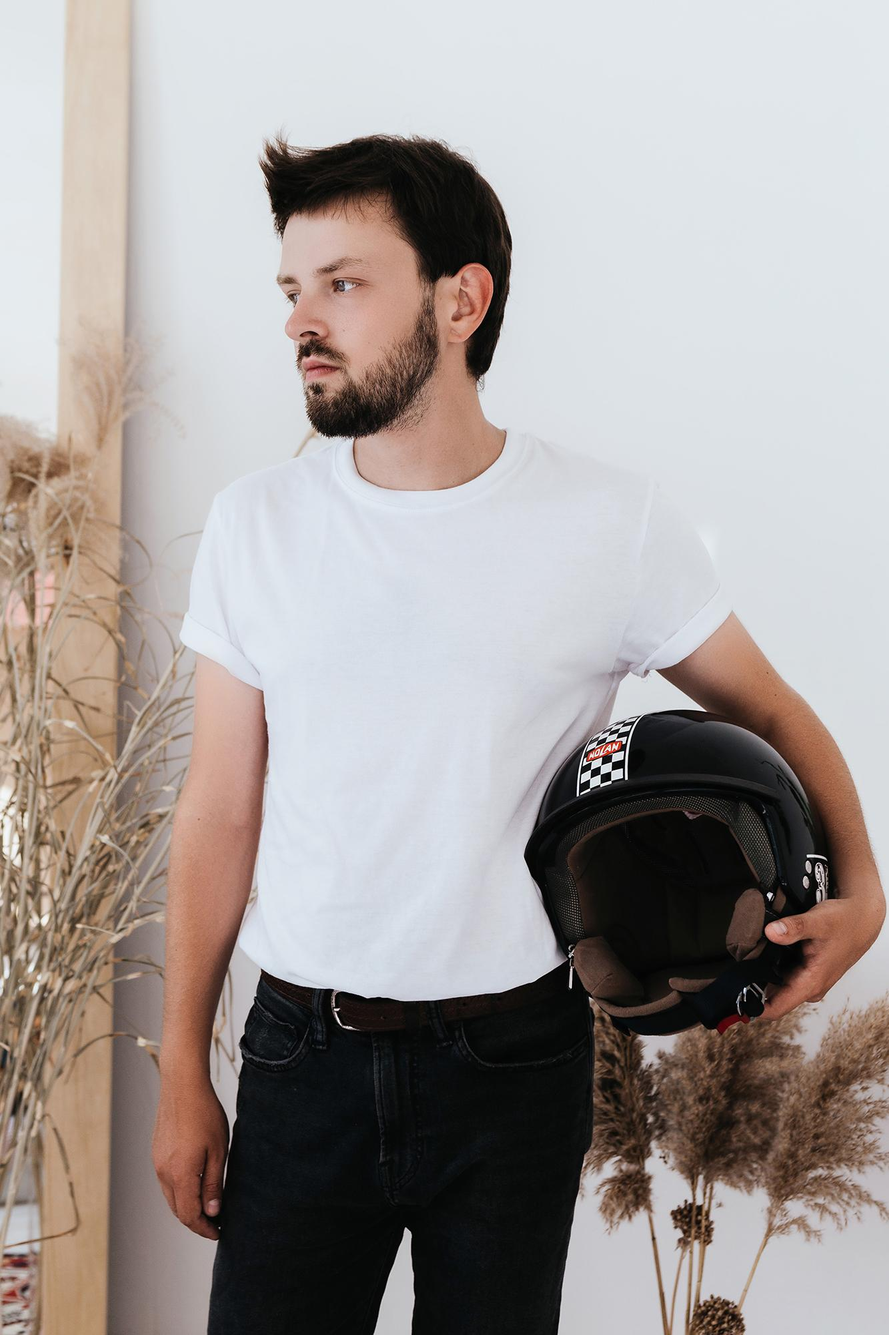helmet: (522, 708, 837, 1038)
nohelmet: (255, 129, 515, 446)
